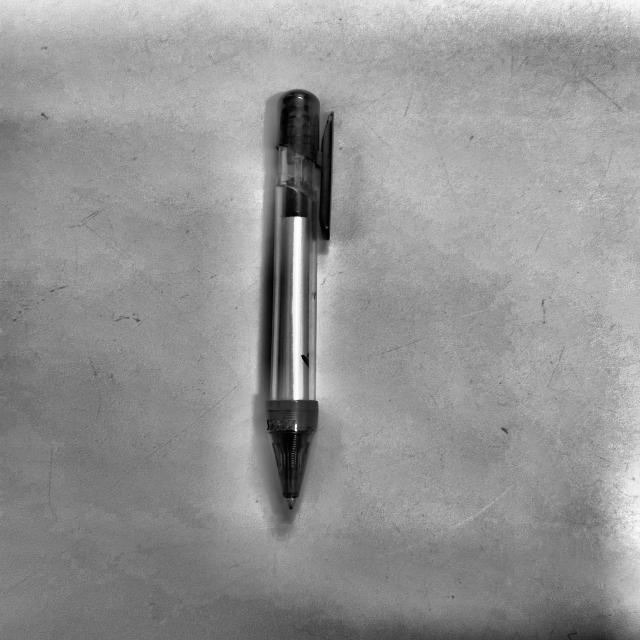Pen: (254, 87, 352, 519)
